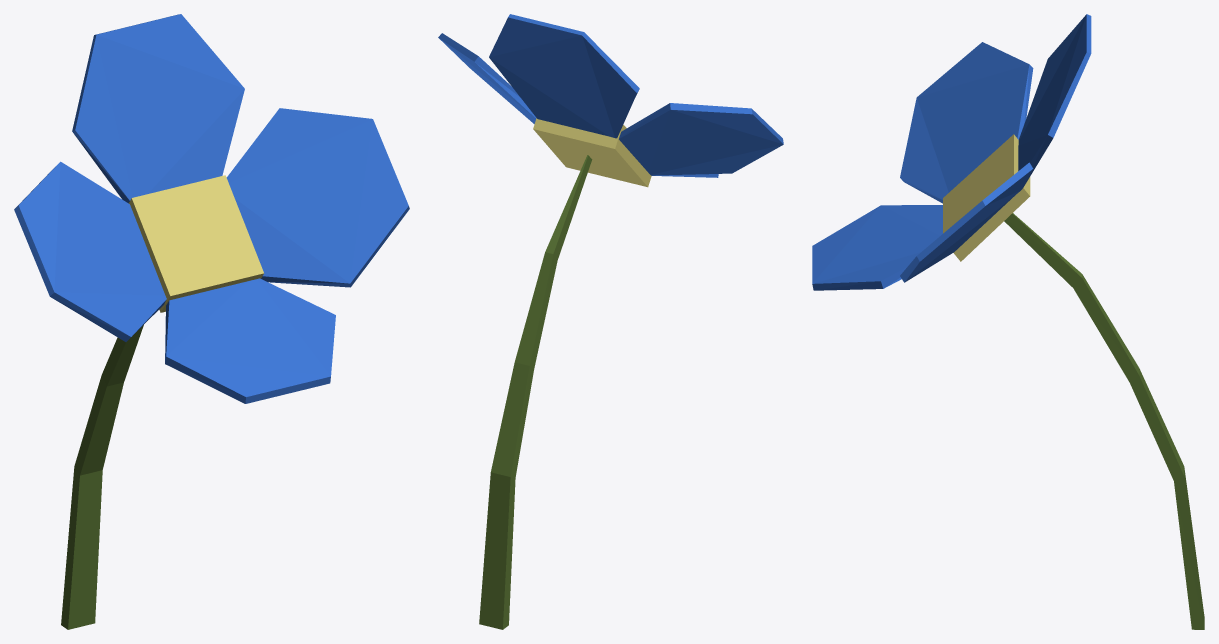
The model's file is Flower_1_1.fbx.
3 views of the same model, side by side, from view 1: azimuth 30°, elevation 25°; view 2: azimuth 150°, elevation 25°; view 3: azimuth 270°, elevation 25° (orthographic). The views are drawn at different scales.
Parts seen in each view (by area): view 1: Flower_1_1; view 2: Flower_1_1; view 3: Flower_1_1.
Boxes of the visible parts, bbox=[...] form: Flower_1_1: bbox=[14, 14, 409, 629]; Flower_1_1: bbox=[438, 14, 783, 629]; Flower_1_1: bbox=[812, 14, 1204, 629].
Bounding box in the file's own units: 9.85 × 16.84 × 10.13.
